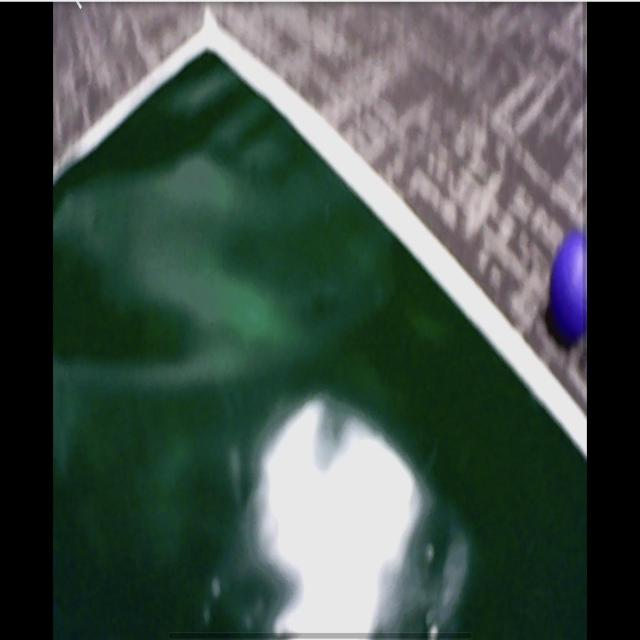ball: (550, 236, 589, 337)
